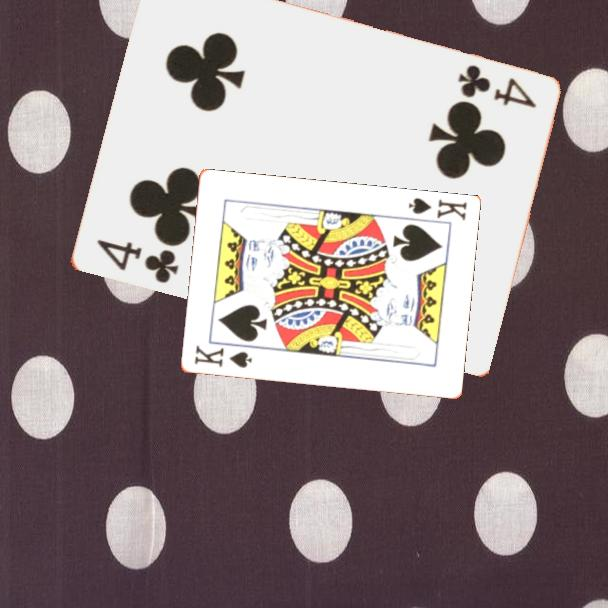c04: (92, 236, 181, 287), (454, 61, 539, 112)
s13: (404, 194, 469, 224), (190, 342, 255, 371)
